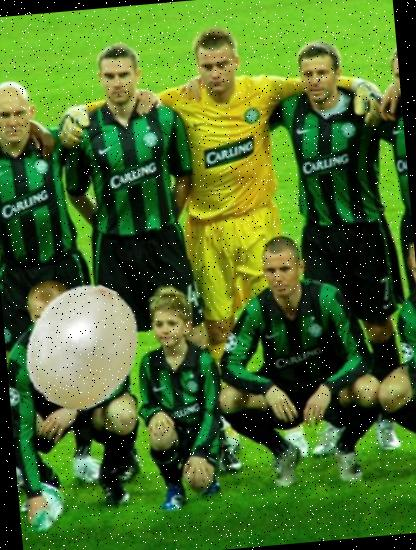Grape: (15, 278, 154, 416)
